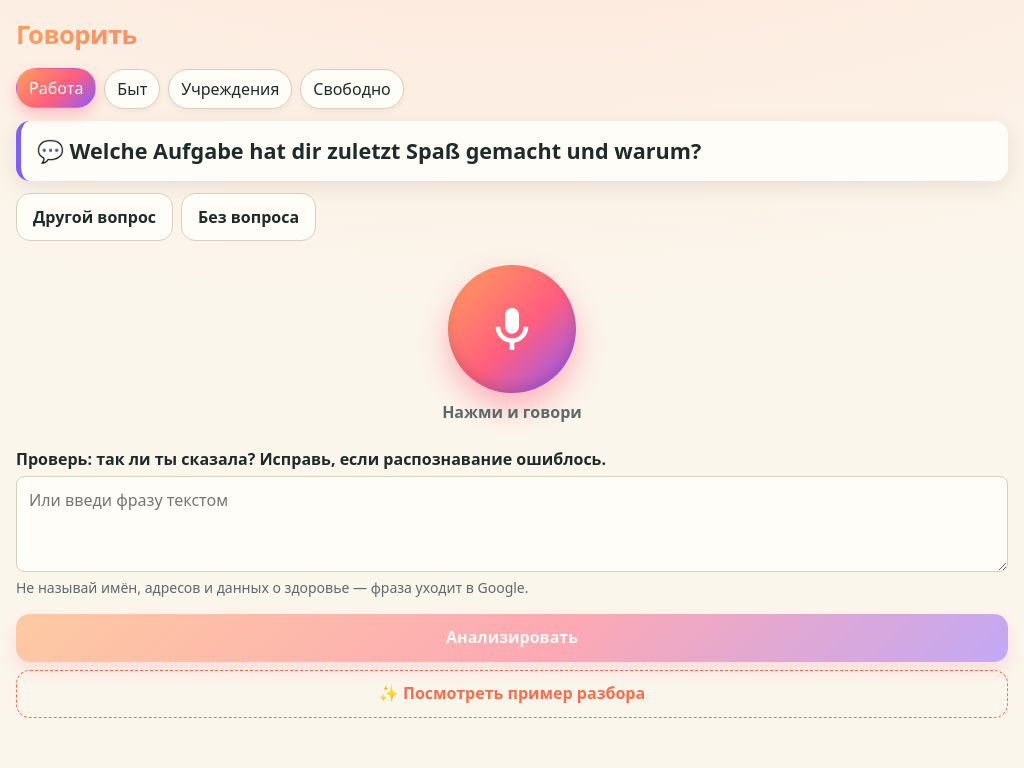
Test case: SpeakPage › keeps Analyze disabled until there is text
Expected: the button "Анализировать" is disabled, [16,614,1008,662]
Type "Hallo" into the text box.
click(512, 524); type("Hallo")  # box [16,476,1008,572]
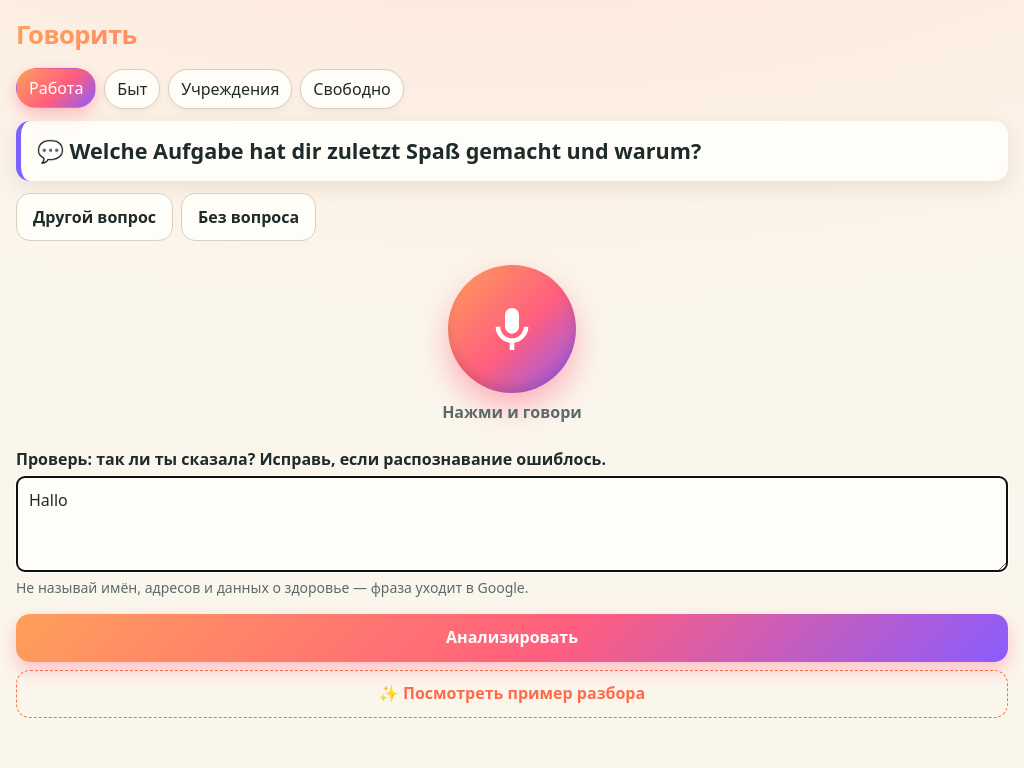
Expected: the button "Анализировать" is enabled, [16,614,1008,662]
